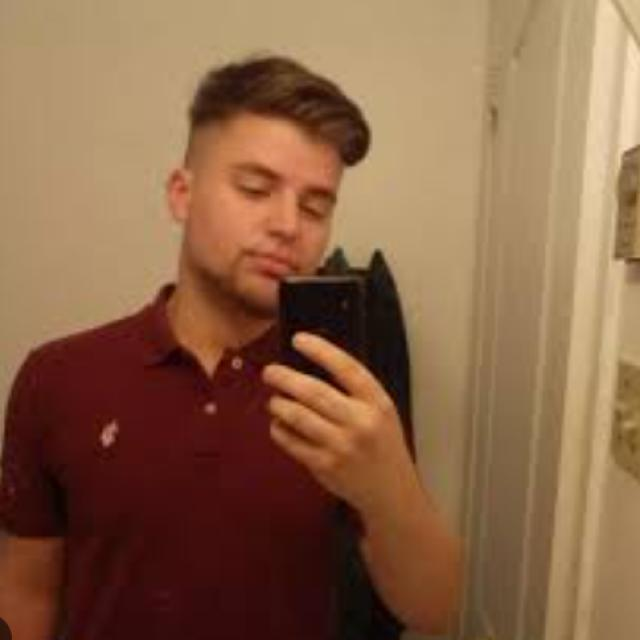face_no_mask: (165, 93, 347, 309)
